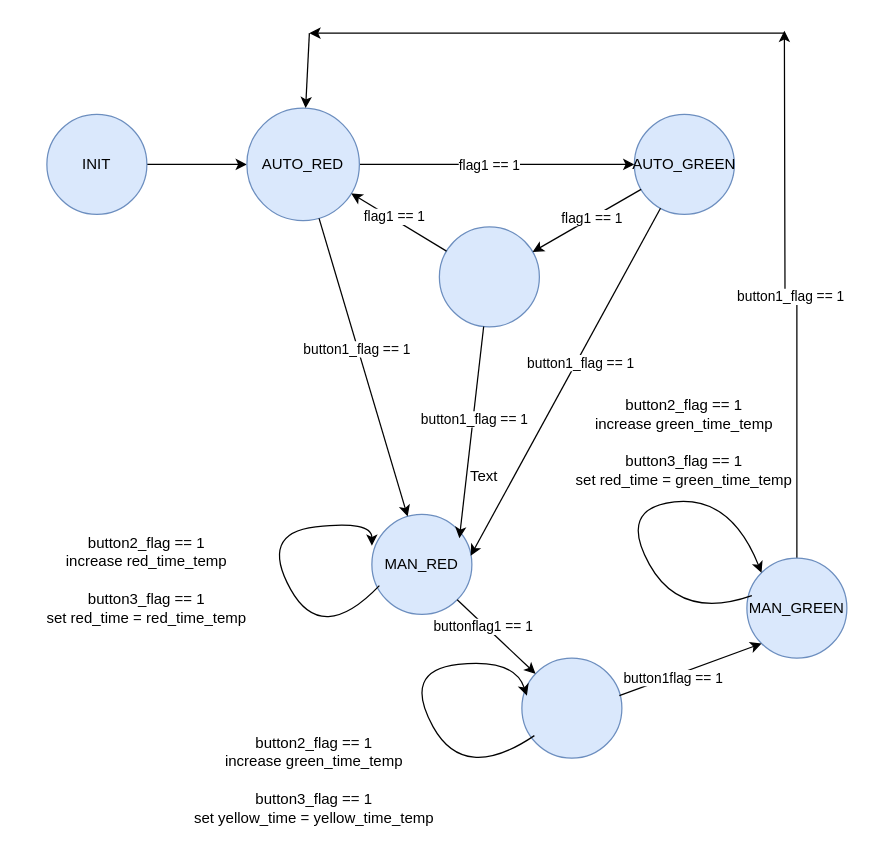
The diagram is 869 pixels wide and 849 high, and some of its shapes have lost their labels. The centre of each missing label's shape, as x and y in pixels:
"AUTO YELLOW" goes at (488,276).
"MAN YELLOW" goes at (571,707).
